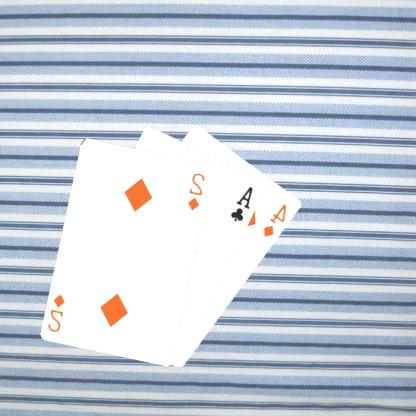2D: (186, 170, 208, 212), (47, 292, 69, 334)
4D: (262, 201, 290, 238)
AC: (229, 183, 257, 223)
